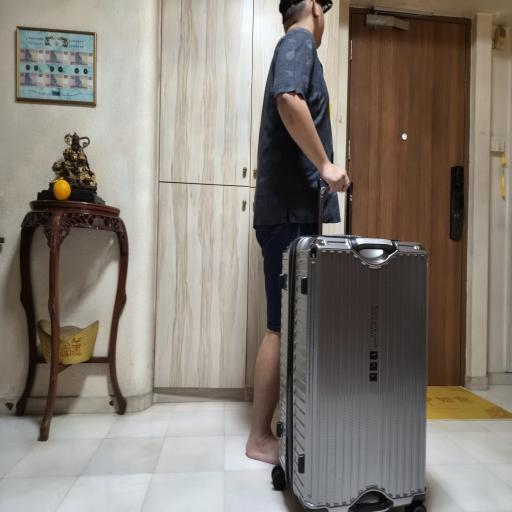person_right: (230, 2, 435, 502)
